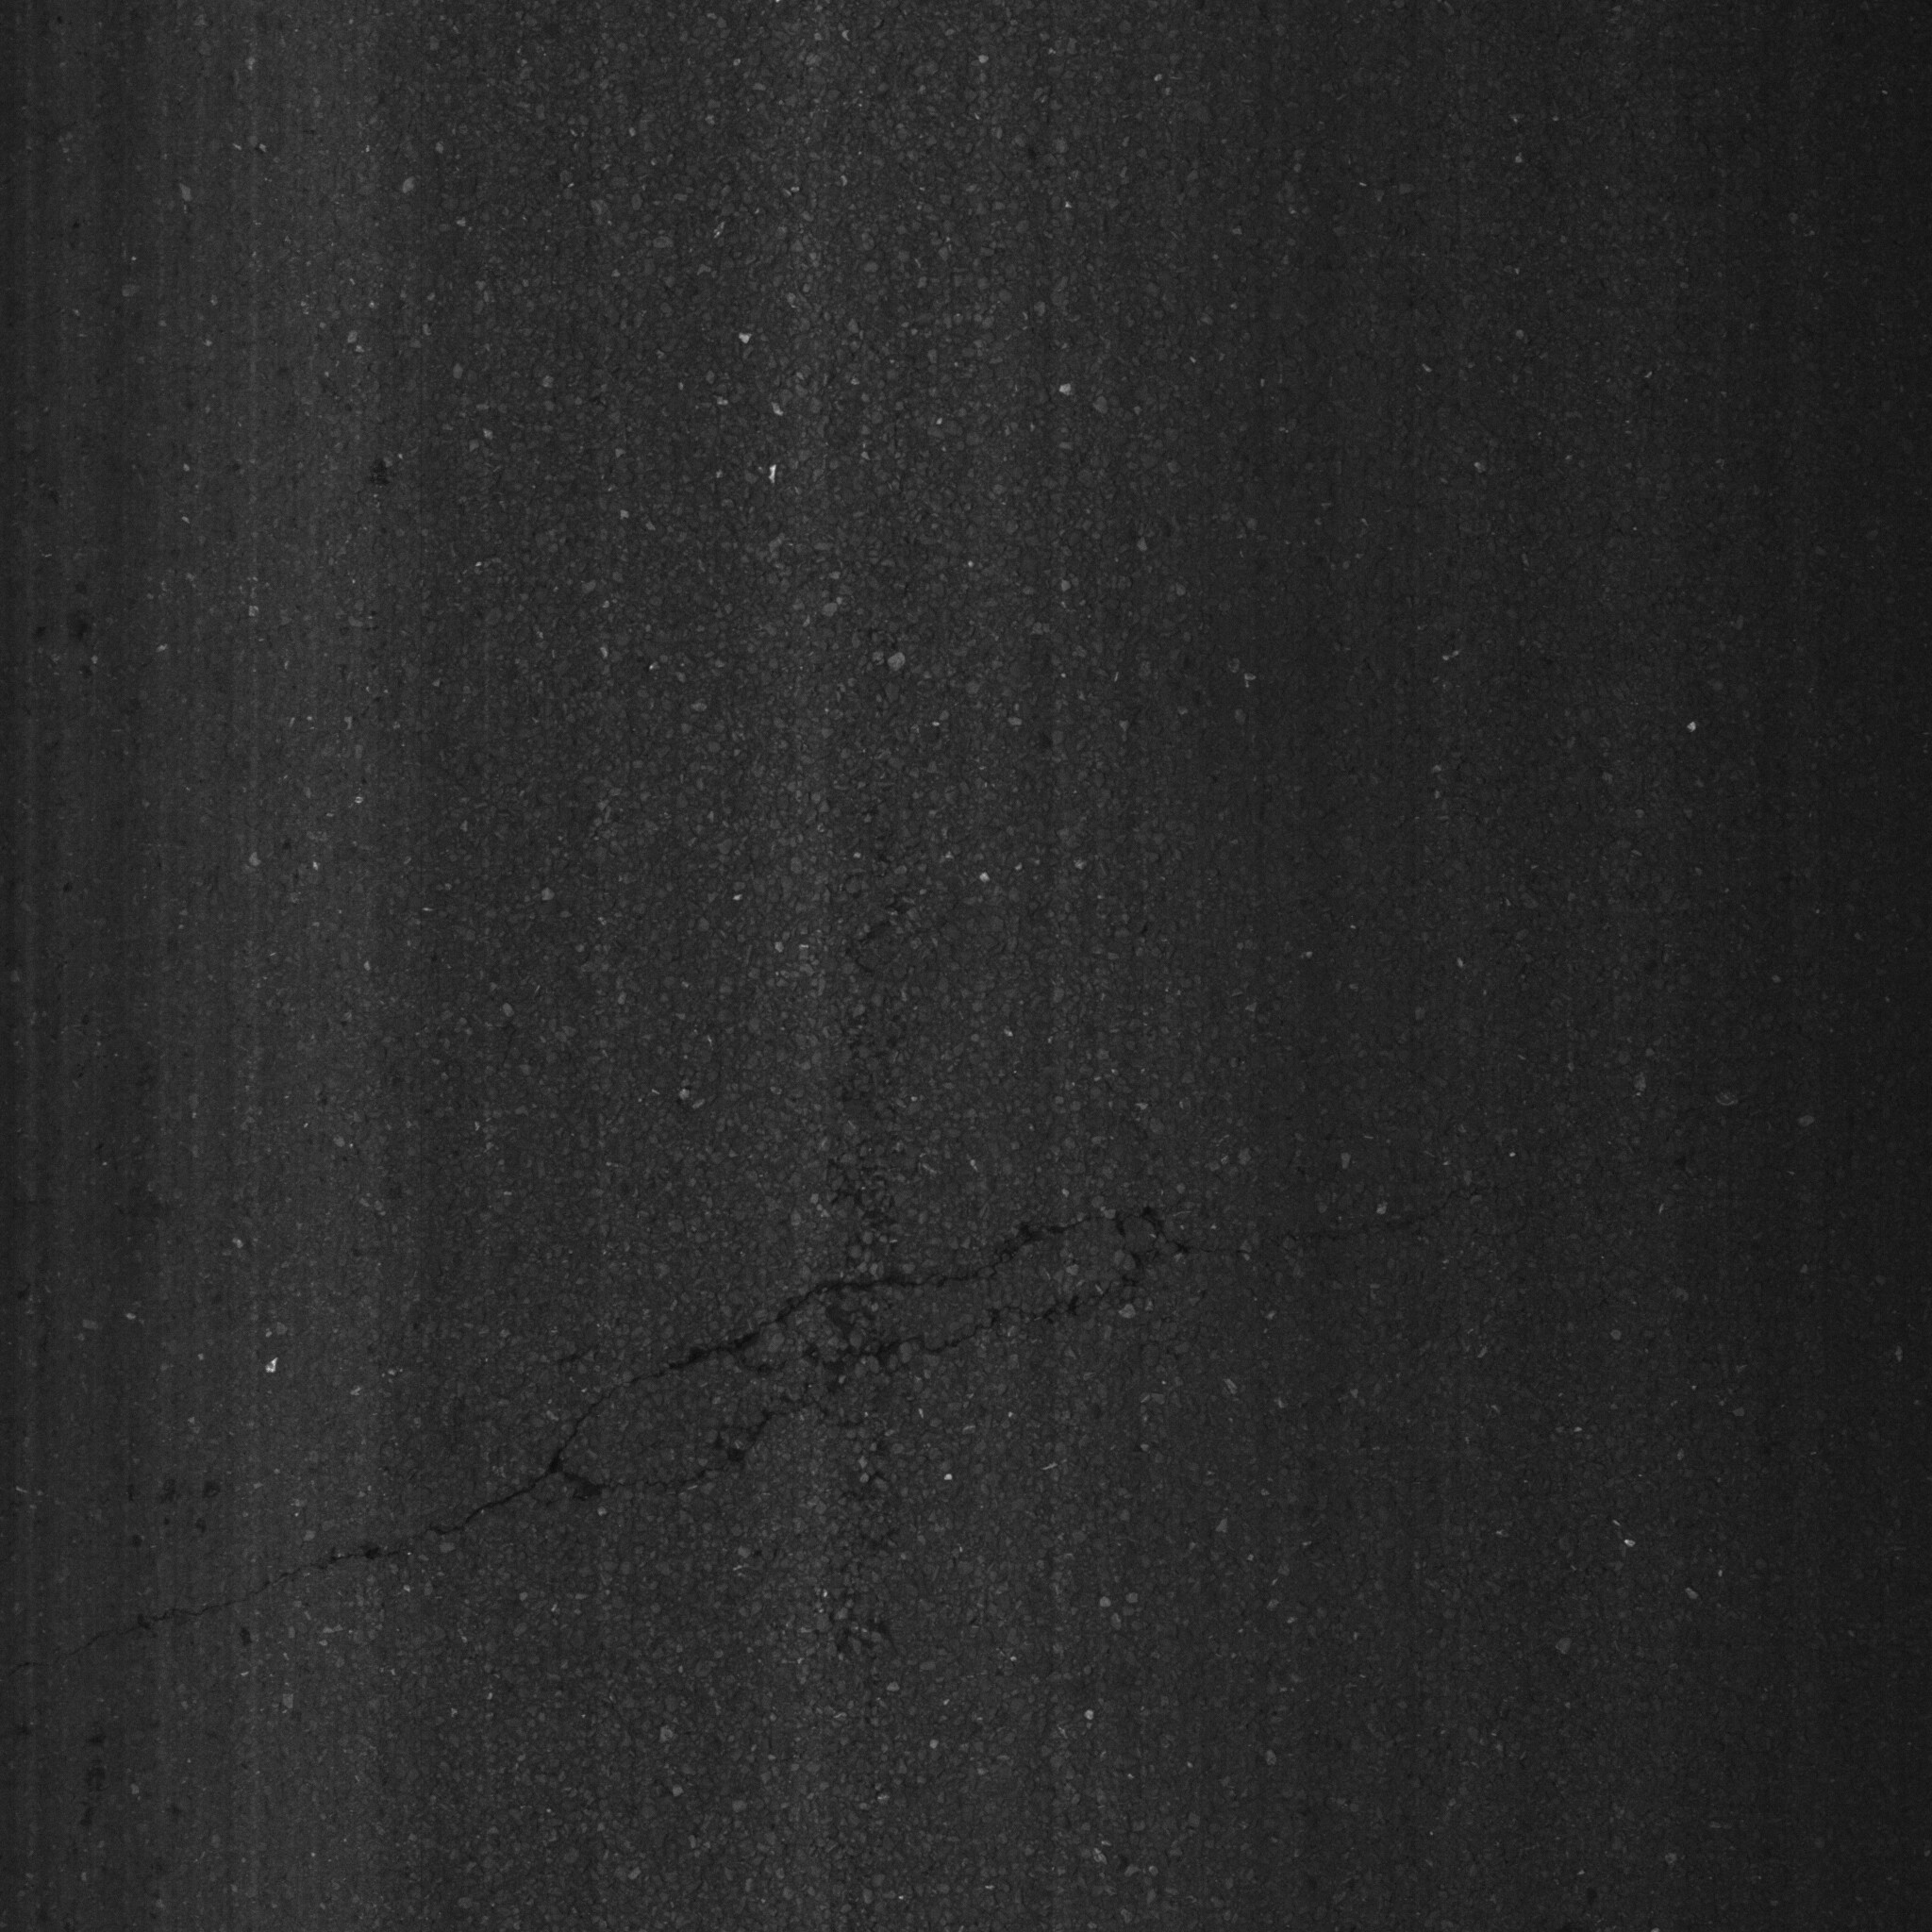transverse: (74, 1154, 1481, 1649)
